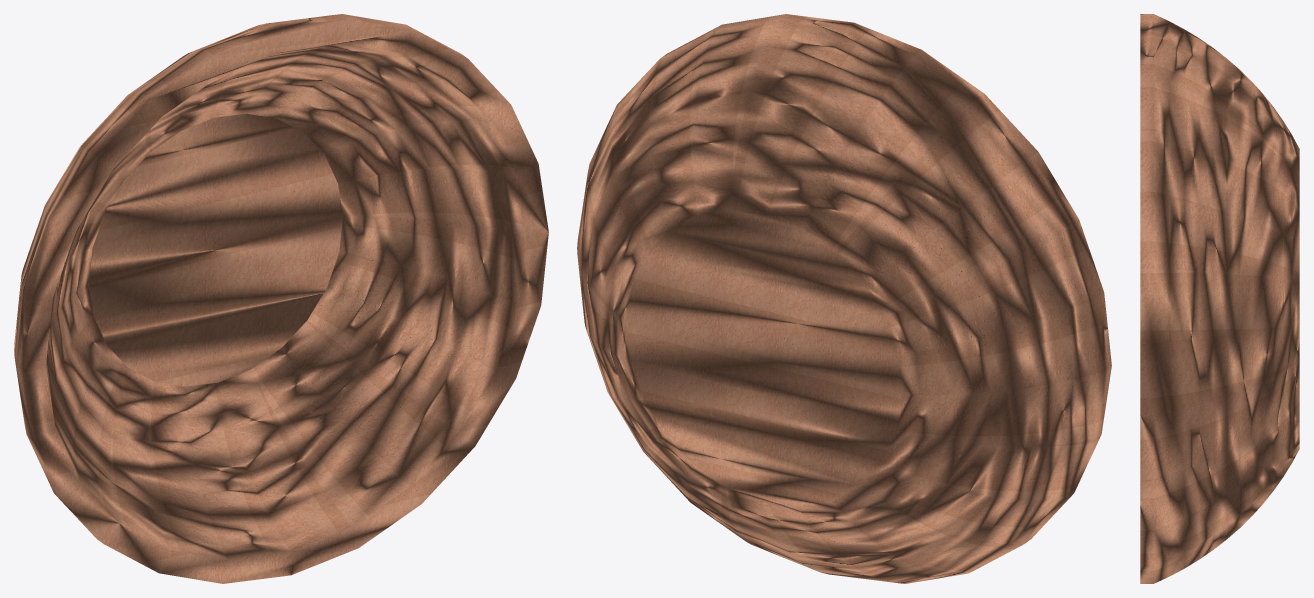
File: model_align.obj
3 renders of one model, left to right at view 1: azimuth 30°, elevation 25°; view 2: azimuth 150°, elevation 25°; view 3: azimuth 270°, elevation 25°, orthographic. The views are drawn at different scales.
Size of the model in its own units: 0.1402 by 0.1402 by 0.039.
1 material, 1 textured.
